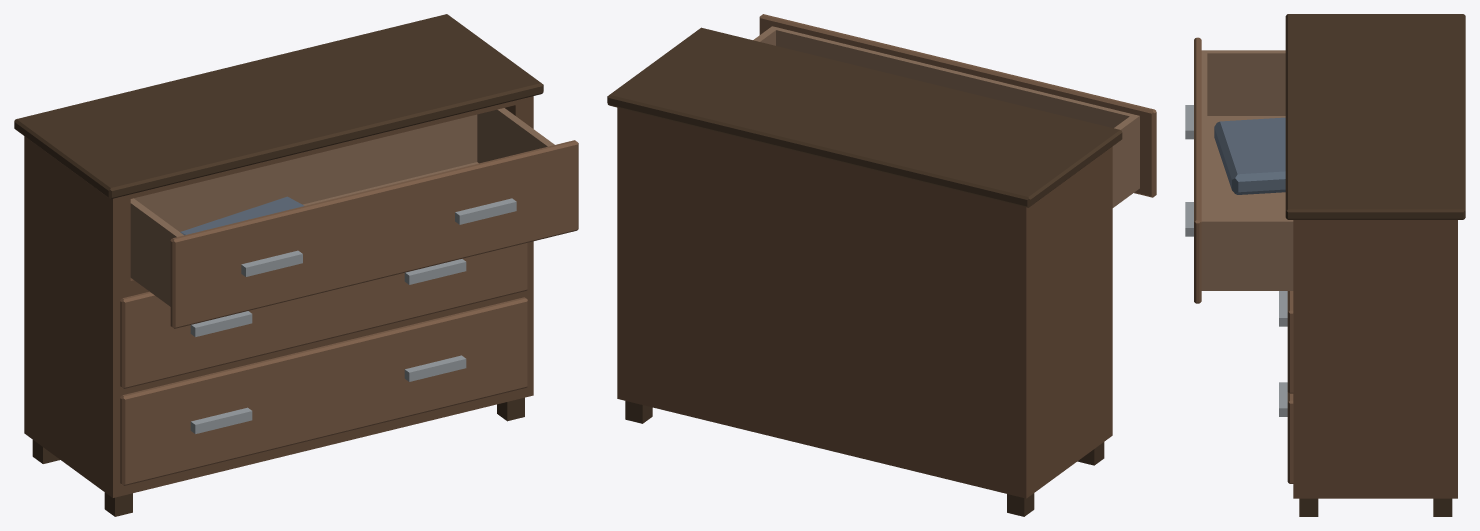
The model's file is commode.glb.
The picture shows the model from 3 angles, left to right: view 1: azimuth 30°, elevation 25°; view 2: azimuth 150°, elevation 25°; view 3: azimuth 270°, elevation 25°; orthographic projection. The views are drawn at different scales.
Visible parts, largest first — view 1: fronts, top, body, drawer_front, drawer, pulls, drawer_pulls, feet, jumper; view 2: body, top, drawer, drawer_front, feet; view 3: body, top, drawer, jumper, drawer_front, fronts, feet, pulls, drawer_pulls.
Part boxes in pixels (left/top/right/bottom): fronts: left=120, top=242, right=528, bottom=485; top: left=14, top=14, right=543, bottom=198; body: left=24, top=96, right=533, bottom=497; drawer_front: left=170, top=140, right=578, bottom=328; drawer: left=130, top=108, right=554, bottom=306; pulls: left=190, top=259, right=466, bottom=433; drawer_pulls: left=241, top=198, right=516, bottom=276; feet: left=32, top=397, right=524, bottom=516; jumper: left=180, top=196, right=304, bottom=235; body: left=617, top=107, right=1112, bottom=498; top: left=607, top=27, right=1122, bottom=207; drawer: left=753, top=26, right=1139, bottom=207; drawer_front: left=759, top=14, right=1156, bottom=197; feet: left=625, top=401, right=1104, bottom=516; body: left=1293, top=220, right=1457, bottom=498; top: left=1285, top=14, right=1465, bottom=219; drawer: left=1201, top=50, right=1293, bottom=290; jumper: left=1214, top=117, right=1285, bottom=194; drawer_front: left=1194, top=37, right=1201, bottom=303; fronts: left=1287, top=291, right=1293, bottom=483; feet: left=1299, top=498, right=1452, bottom=516; pulls: left=1279, top=291, right=1287, bottom=416; drawer_pulls: left=1185, top=105, right=1193, bottom=236.
Bounding box in the file's own units: 1.22 × 0.9 × 0.7325.
6 materials, 6 textured.
